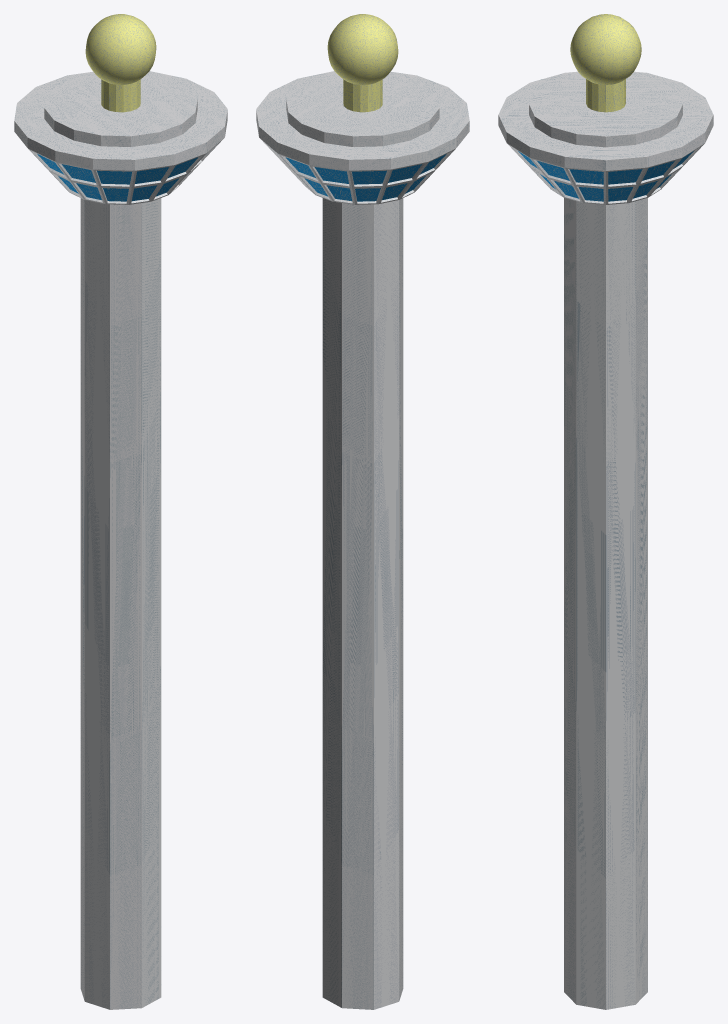
The model's file is WSSS_ZT_TOWER.dae.
The picture shows the model from 3 angles, left to right: view 1: azimuth 30°, elevation 25°; view 2: azimuth 150°, elevation 25°; view 3: azimuth 270°, elevation 25°; orthographic projection.
Visible parts, largest first — view 1: SketchUp (×4); view 2: SketchUp (×4); view 3: SketchUp (×4).
Boxes of the visible parts, x1=… form: SketchUp (×4): x1=14, y1=14, x2=227, y2=1009; SketchUp (×4): x1=256, y1=14, x2=469, y2=1009; SketchUp (×4): x1=498, y1=14, x2=713, y2=1009.
Size of the model in its own units: 709 by 709 by 3543.
4 materials, 3 textured.
